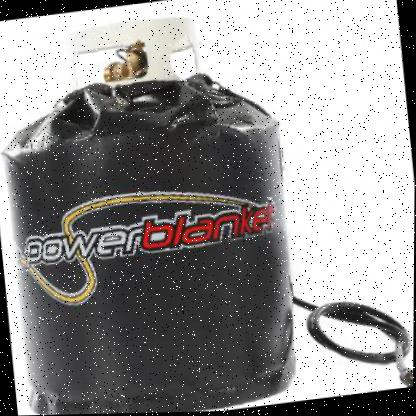gas-tank: (37, 16, 229, 106)
